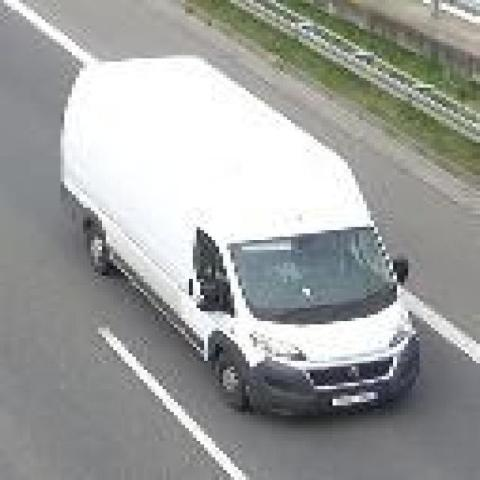van: (61, 57, 420, 421)
